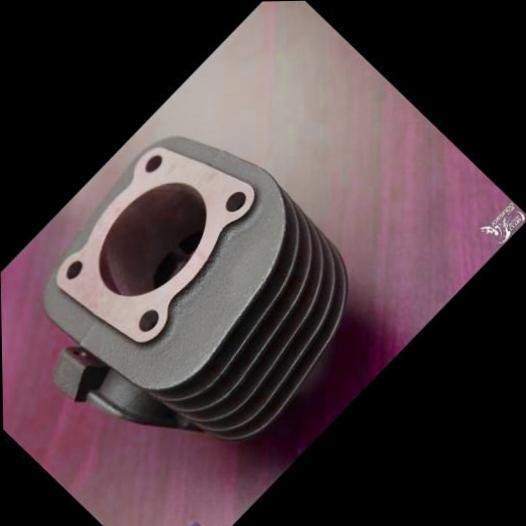hole: (128, 302, 164, 340), (218, 184, 254, 221)
